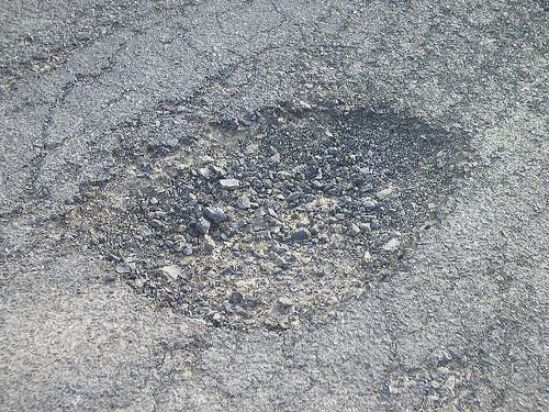pothole: (35, 85, 487, 336)
